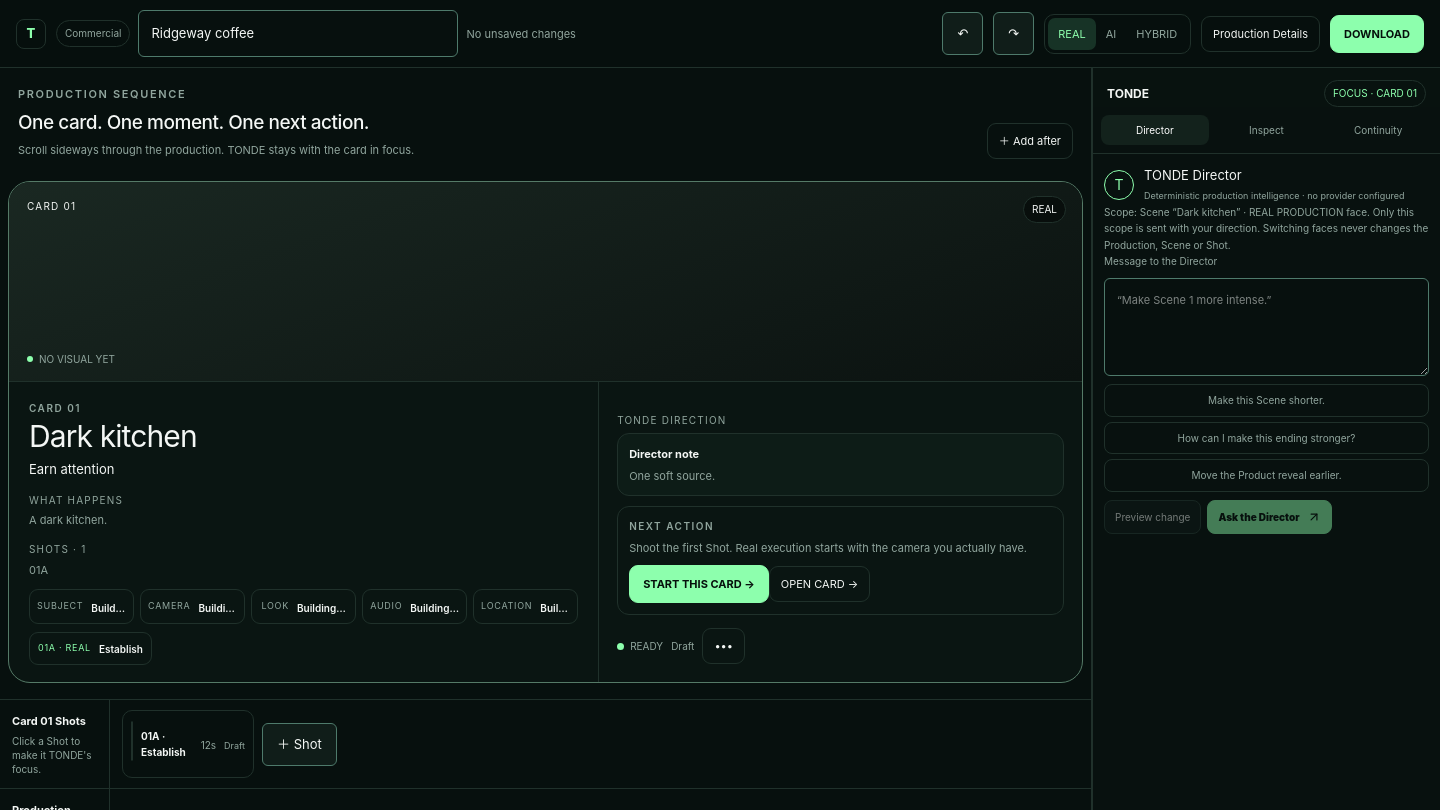
Scenario: Card-first Studio shell › selects a Shot and makes it TONDE’s explicit scope
Check: the element named "Card 1: Dark kitchen" is shown, box [8,181,1083,683]
Click the option "01A · Establish 12s Draft". click: (188, 744)
box: [122,710,254,778]
(page scrolled)
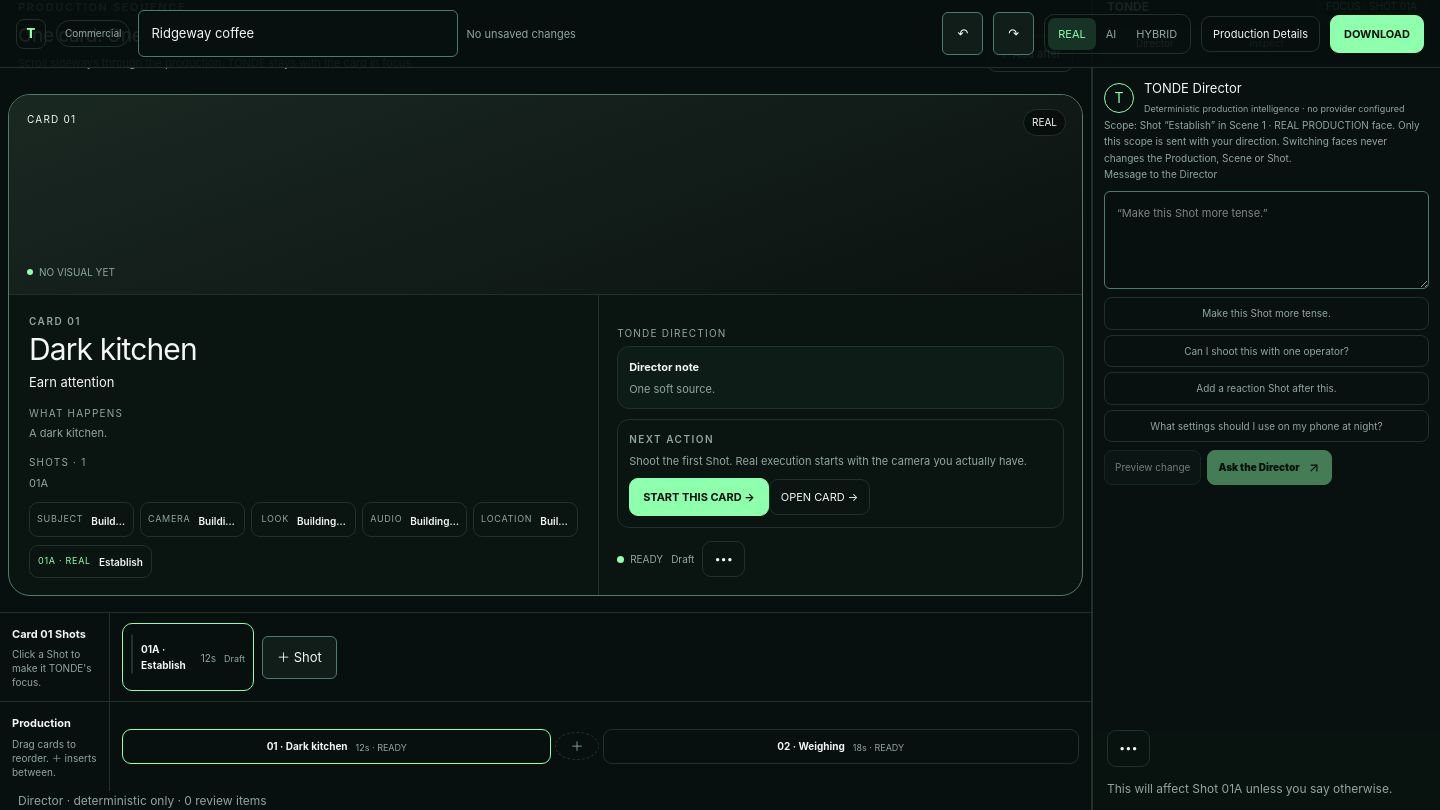
Check: the text "This will affect Shot 01A unless you say otherwise." is shown, box [1107,780,1392,796]
